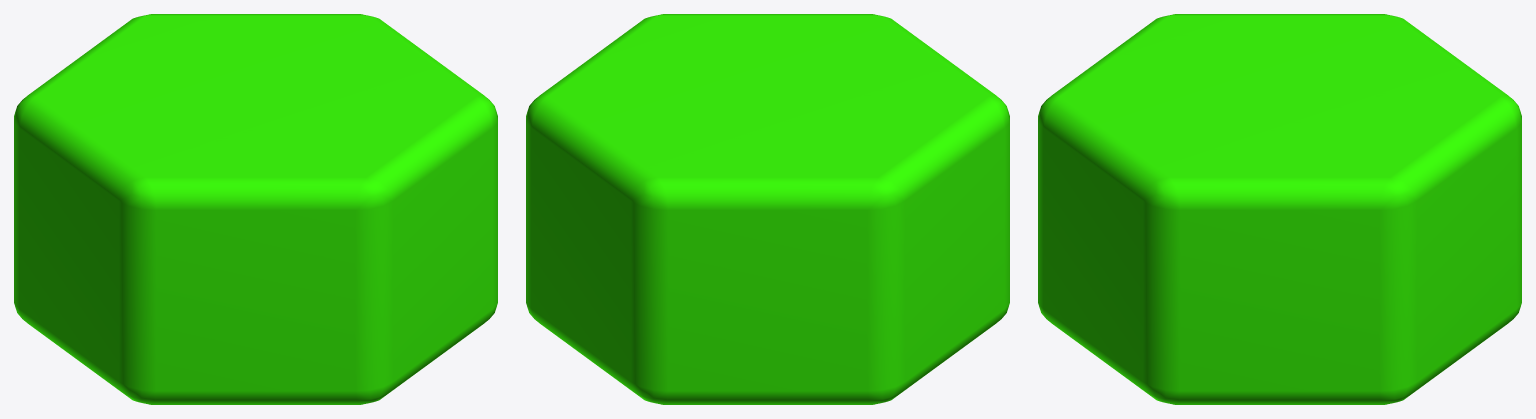
File: Cell.fbx
The picture shows the model from 3 angles, left to right: view 1: azimuth 30°, elevation 25°; view 2: azimuth 150°, elevation 25°; view 3: azimuth 270°, elevation 25°; orthographic projection.
Parts seen in each view (by area): view 1: Cell; view 2: Cell; view 3: Cell.
Part boxes in pixels (bbox=[...]): Cell: bbox=[14, 14, 497, 404]; Cell: bbox=[526, 14, 1009, 404]; Cell: bbox=[1038, 14, 1521, 404].
Size of the model in its own units: 173 by 100 by 194.
